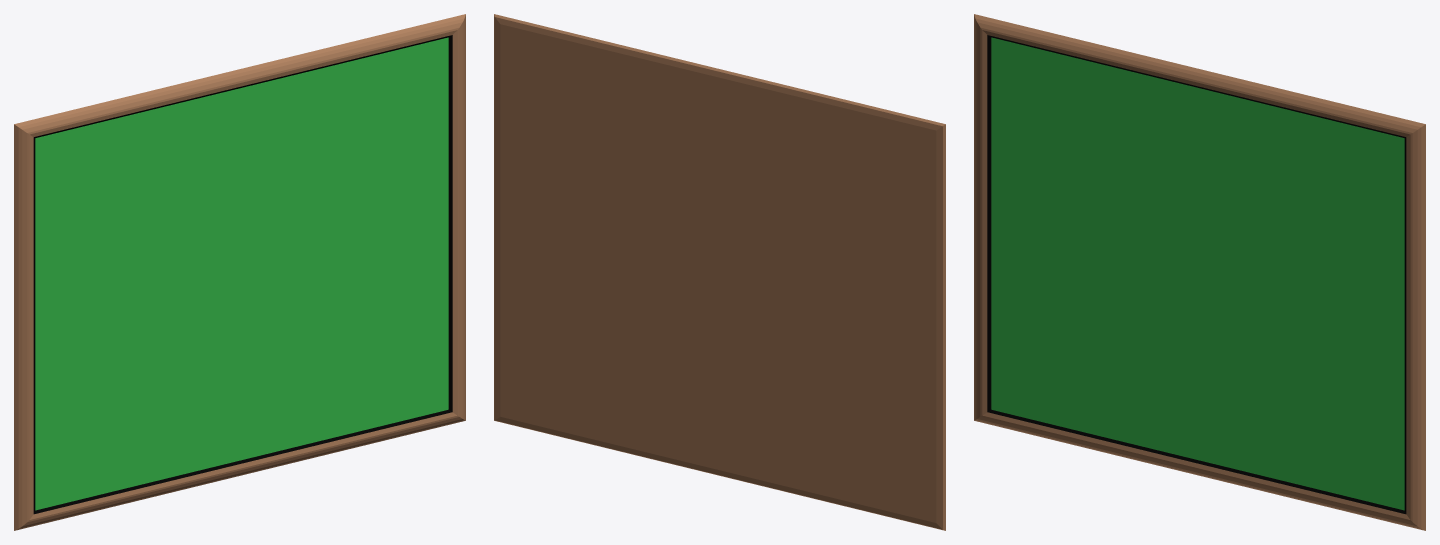
File: Hint Tab.fbx
The picture shows the model from 3 angles, left to right: view 1: azimuth 30°, elevation 25°; view 2: azimuth 150°, elevation 25°; view 3: azimuth 330°, elevation 25°; orthographic projection.
Visible parts, largest first — view 1: Hint Tab; view 2: Hint Tab; view 3: Hint Tab.
Boxes of the visible parts, left/top/right/bottom form: Hint Tab: left=14, top=14, right=465, bottom=530; Hint Tab: left=494, top=14, right=945, bottom=530; Hint Tab: left=974, top=14, right=1425, bottom=530.
Bounding box in the file's own units: 3049 × 2623 × 60.39.
